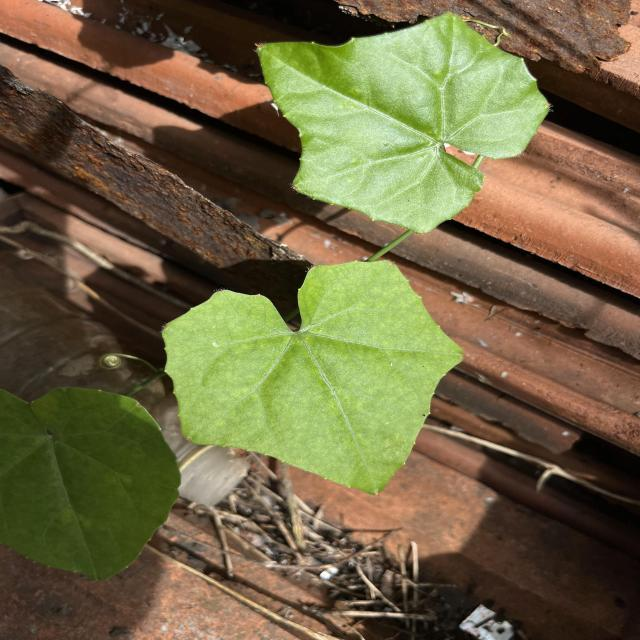Coccinia grandis: (160, 257, 466, 498), (254, 12, 554, 235)
